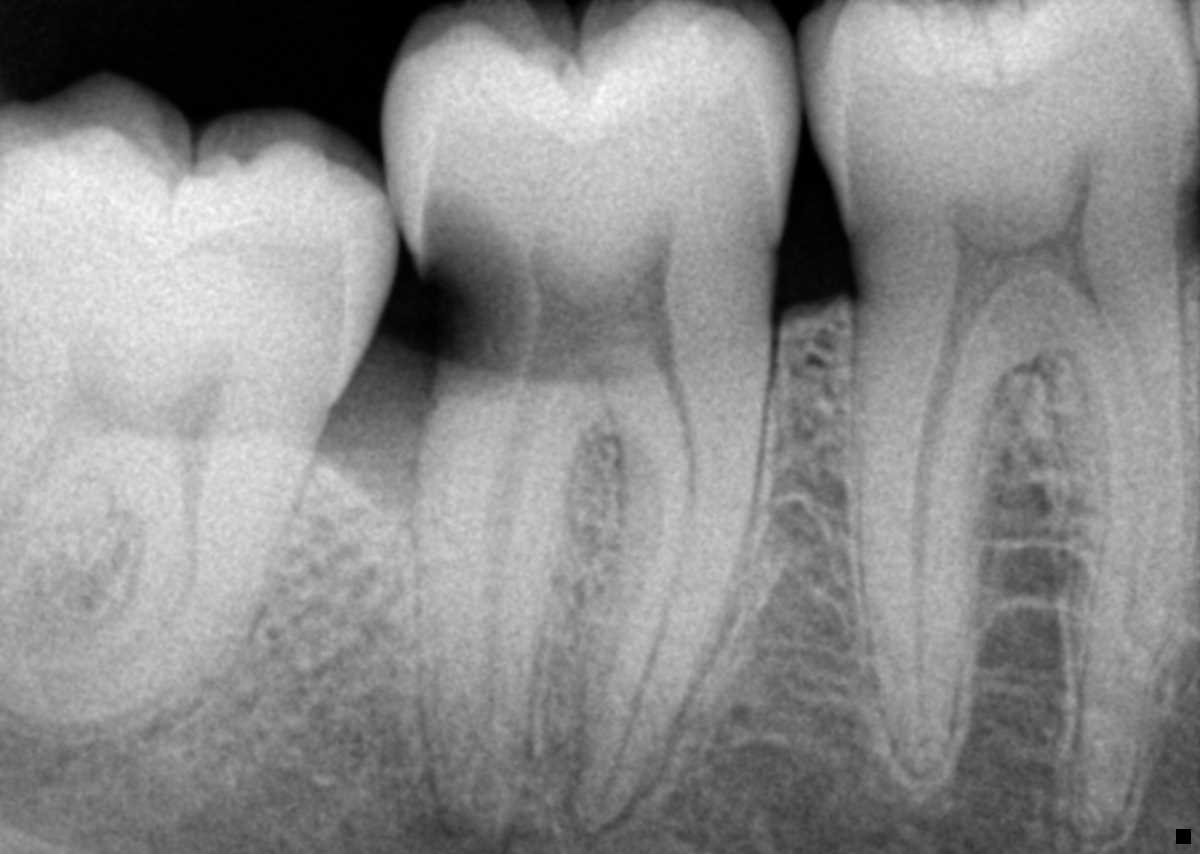Apical Lesion: (410, 815, 540, 854)
Distal Canal: (481, 411, 540, 801), (912, 332, 966, 730)
Distal Root: (412, 400, 585, 854), (849, 310, 1011, 773)
Mesial Canal: (599, 429, 700, 804), (64, 472, 204, 671)
Mesial Root: (0, 460, 303, 736), (564, 423, 764, 830), (1047, 316, 1200, 840)
decay: (422, 190, 533, 388)
